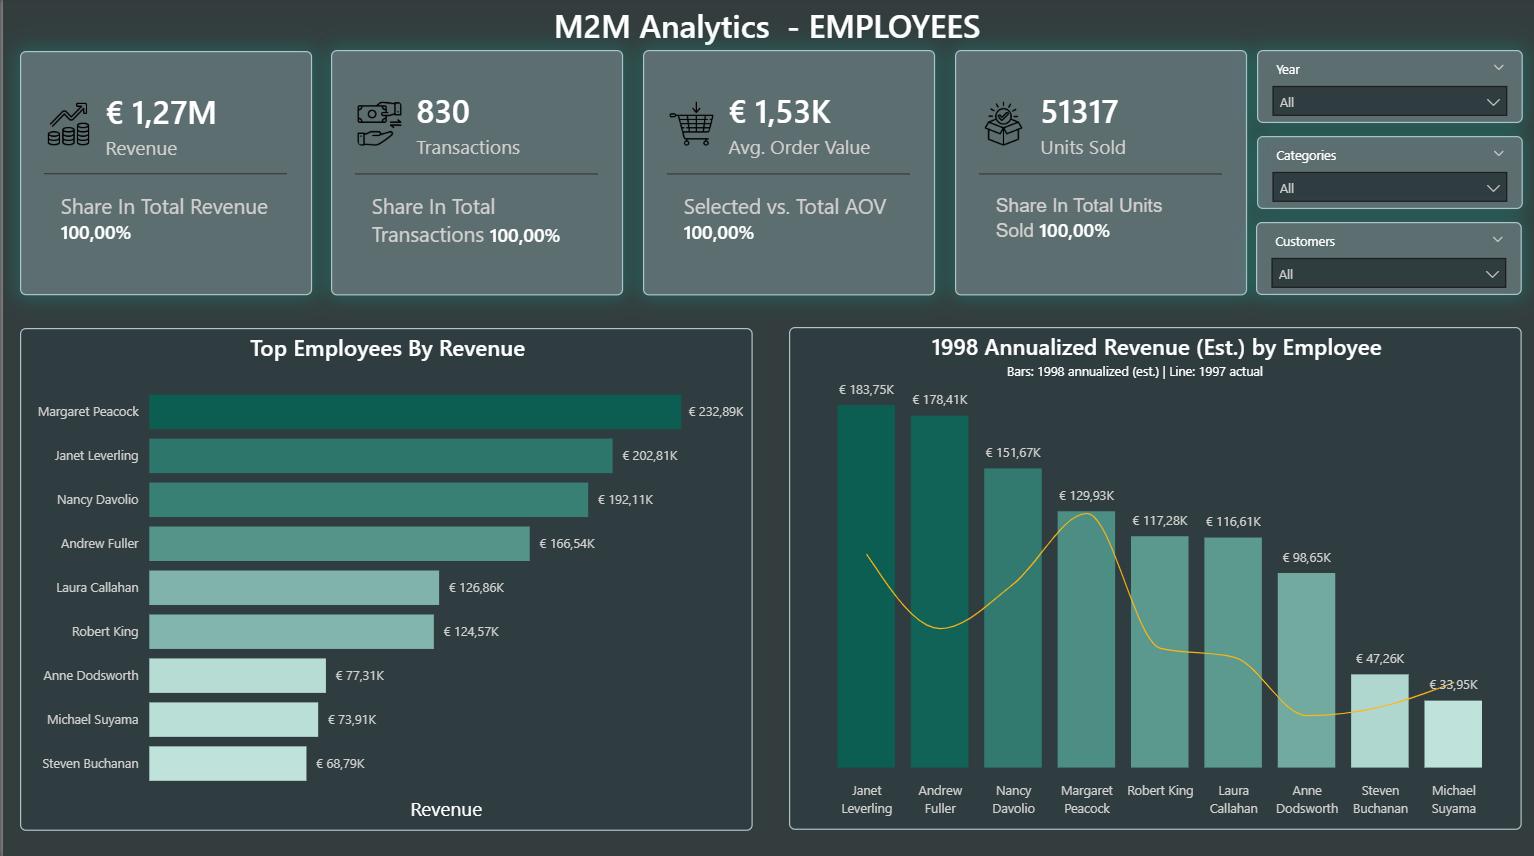

This screenshot's page, from the dashboard's own definition file:
{"tool":"powerbi","page":{"name":"Employees","canvas":[1280,720],"ordinal":3},"visuals":[{"type":"cardVisual","fields":{"Data":["Measurements.Total_Transactions"]},"box":[274.2,44.2,243.9,205.3],"z":0},{"type":"cardVisual","fields":{"Data":["Metrics.Total_Revenue"]},"box":[13.9,45.5,243.9,204.1],"z":0,"group":"g1"},{"type":"textbox","box":[425.5,0,543.7,45.6],"z":1000},{"type":"group","id":"g1","title":"Group 1","box":[13.9,45.5,243.9,204.1],"z":2000},{"type":"slicer","fields":{"Values":["Categories.CategoryName"]},"box":[1047.5,116.2,221.8,61.3],"z":3000},{"type":"cardVisual","fields":{"Data":["Measurements.Total_Products_Sold"]},"box":[794.8,44.2,243.9,205.3],"z":4000},{"type":"slicer","fields":{"Values":["Date.Year"]},"box":[1047.5,44.2,221.8,61.3],"z":5000},{"type":"cardVisual","fields":{"Data":["Measurements.Avg_Basket_Size"]},"box":[534.5,44.2,243.9,205.3],"z":6000},{"type":"clusteredBarChart","title":"Top Employees By Revenue","fields":{"Y":["Metrics.Total_Revenue"],"Category":["Personel SQL.Adi_Soyadi"]},"box":[13.9,276.1,612.2,419.5],"z":7000},{"type":"slicer","fields":{"Values":["Musteri SQL.Musteri_Adi"]},"box":[1046.9,188.3,221.8,61.3],"z":8000},{"type":"lineStackedColumnComboChart","title":"1998 Annualized Revenue (Est.) by Employee","fields":{"Category":["Personel SQL.Adi_Soyadi"],"Y":["Sum(Personel SQL.Toplam_Satis_1998)"],"Y2":["Sum(Personel SQL.Toplam_Satis_1997)"]},"box":[656.5,275.3,612.4,420],"z":9000},{"type":"textbox","box":[834,299.5,257.1,26.5],"z":10000}]}

Visuals, with their boxes in screenshot pixels (x1, y1, x2, y2), scaled from the page's 1280x720 canvas onto the 1534x856 screenshot:
cardVisual - Measurements.Total_Transactions: [left=329, top=53, right=621, bottom=297]
cardVisual - Metrics.Total_Revenue: [left=17, top=54, right=309, bottom=297]
textbox: [left=510, top=0, right=1162, bottom=54]
"Group 1" group: [left=17, top=54, right=309, bottom=297]
slicer - Categories.CategoryName: [left=1255, top=138, right=1521, bottom=211]
cardVisual - Measurements.Total_Products_Sold: [left=953, top=53, right=1245, bottom=297]
slicer - Date.Year: [left=1255, top=53, right=1521, bottom=125]
cardVisual - Measurements.Avg_Basket_Size: [left=641, top=53, right=933, bottom=297]
"Top Employees By Revenue" clusteredBarChart: [left=17, top=328, right=750, bottom=827]
slicer - Musteri SQL.Musteri_Adi: [left=1255, top=224, right=1520, bottom=297]
"1998 Annualized Revenue (Est.) by Employee" lineStackedColumnComboChart: [left=787, top=327, right=1521, bottom=827]
textbox: [left=999, top=356, right=1308, bottom=388]
